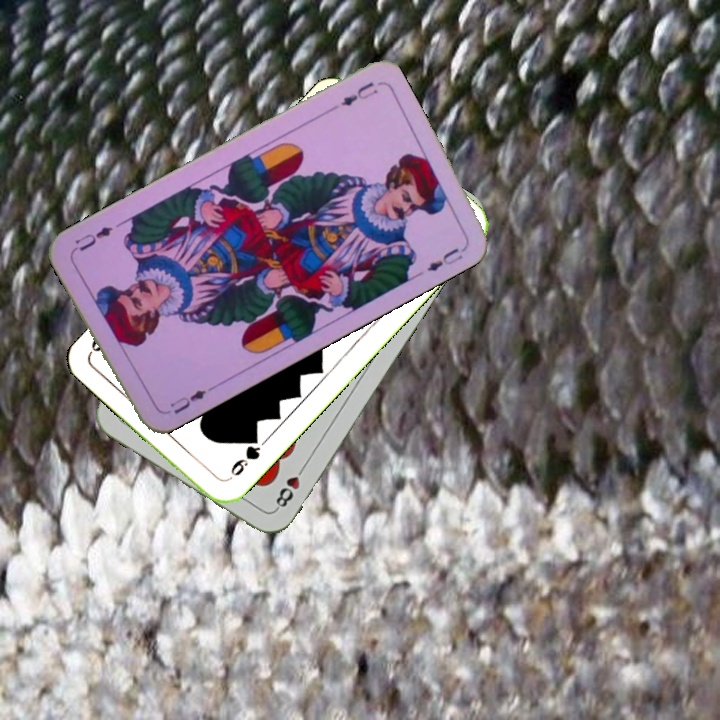EU: (336, 77, 381, 109), (166, 385, 209, 417)
G9: (226, 431, 263, 479)
H8: (271, 460, 309, 513)
